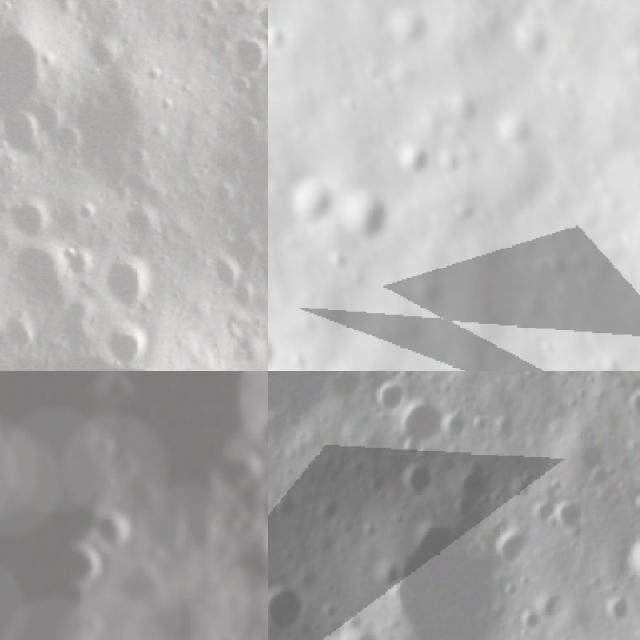crater: (375, 519, 516, 640), (0, 236, 78, 316), (47, 526, 120, 600), (0, 2, 44, 120), (332, 183, 402, 249), (82, 489, 147, 551), (93, 252, 150, 314), (286, 168, 341, 232), (381, 0, 434, 62), (0, 187, 52, 248), (396, 398, 451, 455), (242, 457, 268, 571), (452, 464, 498, 526), (0, 109, 50, 166), (268, 578, 310, 640), (195, 252, 246, 297), (389, 136, 431, 190), (105, 320, 149, 371), (229, 29, 268, 83), (549, 498, 594, 541), (494, 522, 535, 566), (373, 377, 411, 422), (397, 462, 439, 500), (598, 591, 634, 634), (492, 411, 524, 448), (312, 497, 343, 534), (268, 494, 301, 527), (589, 462, 620, 497), (520, 608, 549, 638), (471, 408, 493, 446), (342, 623, 387, 640), (624, 382, 640, 420), (252, 609, 268, 640), (630, 484, 640, 521)
